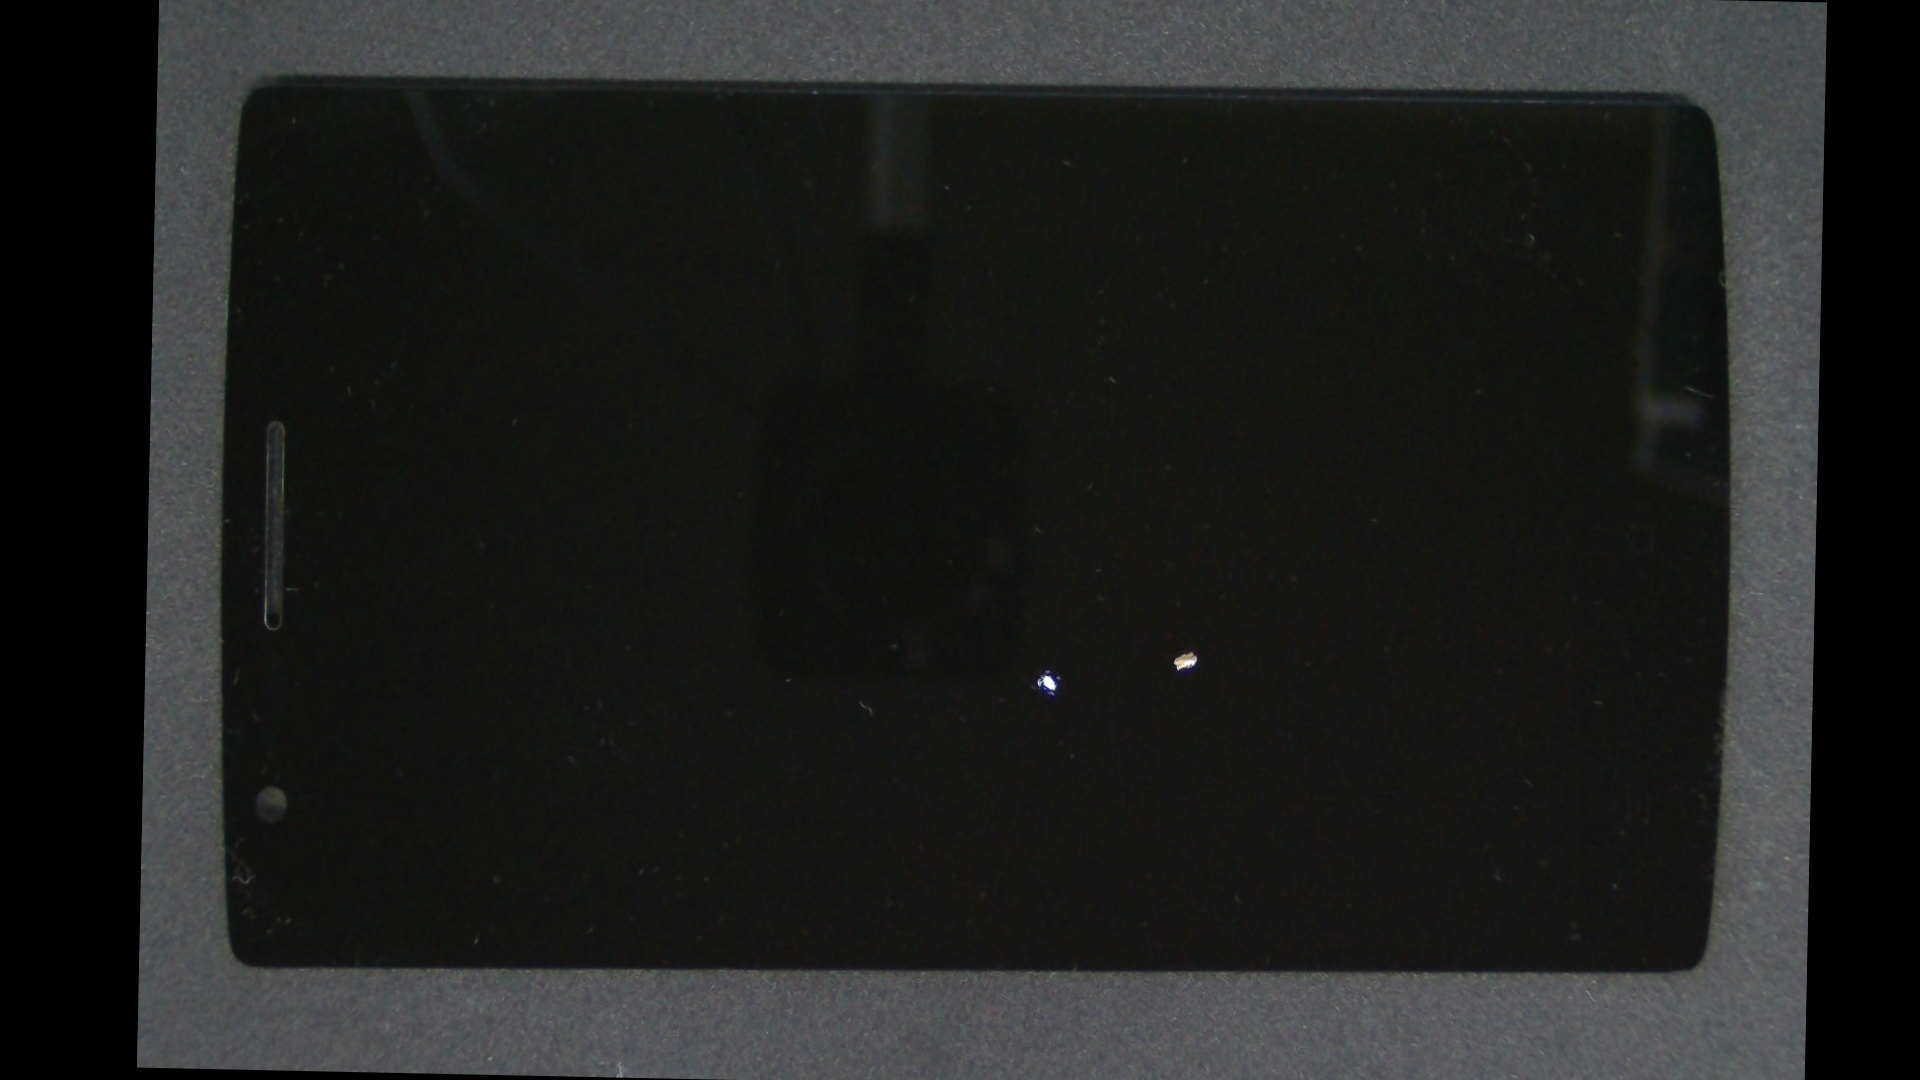oil: (662, 309, 1717, 993), (591, 318, 1507, 1019)
